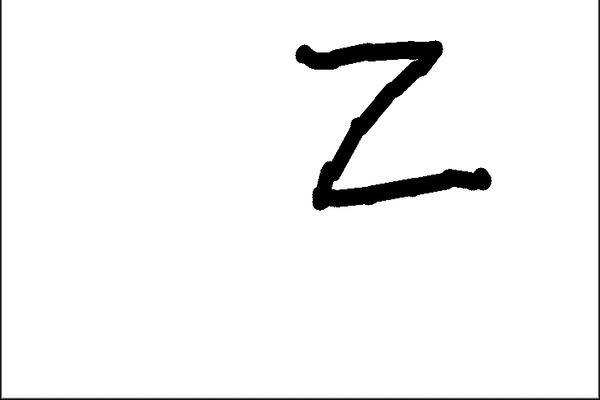Z: (290, 34, 509, 214)
